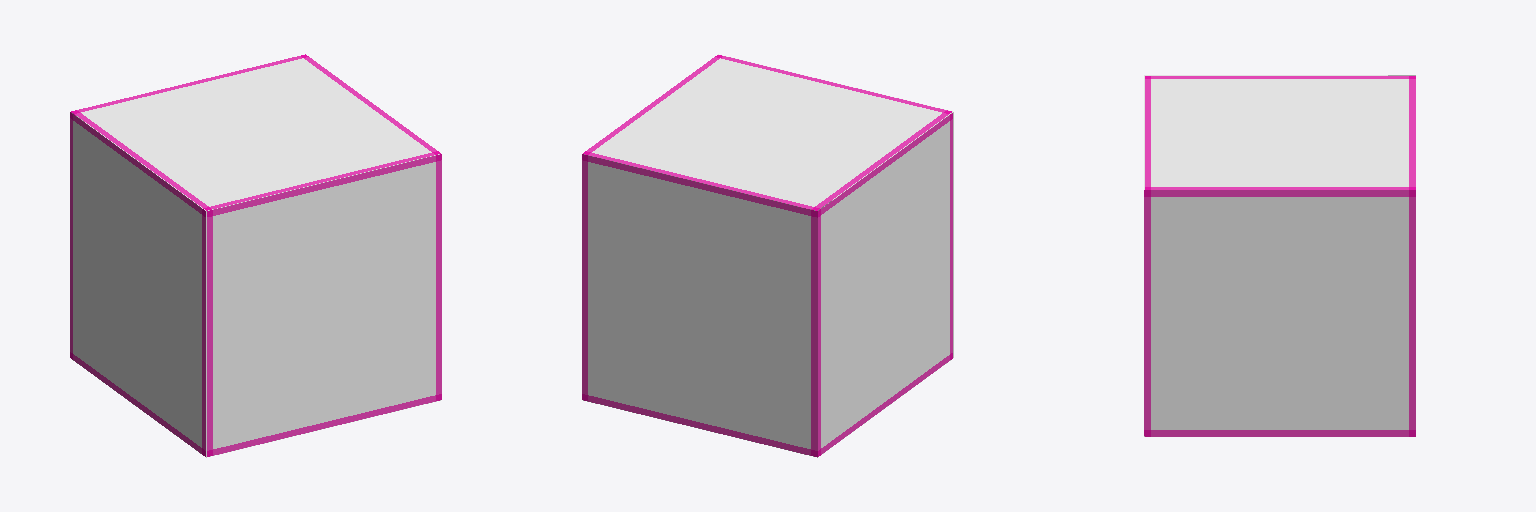
The picture shows the model from 3 angles: view 1: azimuth 30°, elevation 25°; view 2: azimuth 150°, elevation 25°; view 3: azimuth 270°, elevation 25°; orthographic projection.
Parts seen in each view (by area): view 1: Cube.002; view 2: Cube.002; view 3: Cube.002.
Boxes of the visible parts, box(x1,y1,x2,y2) form: Cube.002: box(70, 54, 441, 457); Cube.002: box(582, 54, 953, 457); Cube.002: box(1144, 75, 1415, 436).
Size of the model in its own units: 2 by 2 by 2.
Materials: 1 (1 with a texture image).